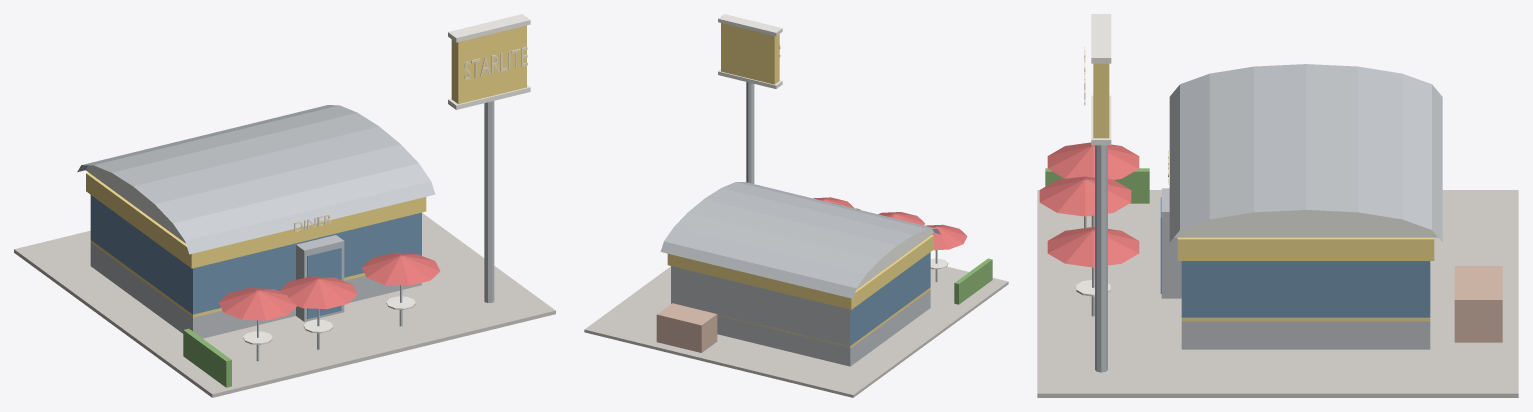
File: diner.glb
The picture shows the model from 3 angles, left to right: view 1: azimuth 30°, elevation 25°; view 2: azimuth 150°, elevation 25°; view 3: azimuth 270°, elevation 25°; orthographic projection. The views are drawn at different scales.
Visible parts, largest first — view 1: diner; view 2: diner; view 3: diner.
Boxes of the visible parts, x1,y1,x2,y2 form: diner: [14, 14, 555, 397]; diner: [584, 14, 1008, 397]; diner: [1037, 14, 1518, 397].
Size of the model in its own units: 12 by 9.3 by 12.
